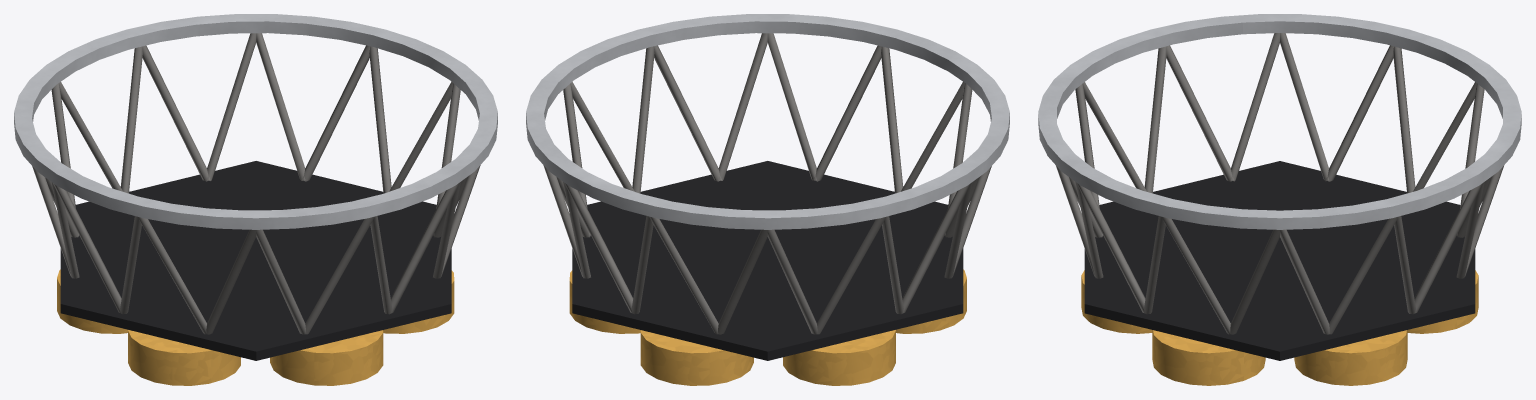
File: prop04_ion_cluster.glb
3 views of the same model, side by side, from view 1: azimuth 30°, elevation 25°; view 2: azimuth 150°, elevation 25°; view 3: azimuth 270°, elevation 25° (orthographic).
Visible parts, largest first — view 1: thruster_plate, truss, interface_ring, thrusters; view 2: thruster_plate, truss, interface_ring, thrusters; view 3: thruster_plate, truss, interface_ring, thrusters.
Part boxes in pixels (left/top/right/bottom): thruster_plate: left=60, top=161, right=451, bottom=360; truss: left=32, top=33, right=480, bottom=334; interface_ring: left=14, top=14, right=497, bottom=229; thrusters: left=57, top=269, right=454, bottom=385; thruster_plate: left=572, top=161, right=963, bottom=360; truss: left=543, top=33, right=991, bottom=334; interface_ring: left=526, top=14, right=1009, bottom=229; thrusters: left=569, top=269, right=966, bottom=385; thruster_plate: left=1084, top=161, right=1475, bottom=360; truss: left=1056, top=33, right=1503, bottom=334; interface_ring: left=1038, top=14, right=1521, bottom=229; thrusters: left=1081, top=270, right=1478, bottom=385.
Bounding box in the file's own units: 3.75 × 1.68 × 3.75.
Materials: 4 (3 with a texture image).
